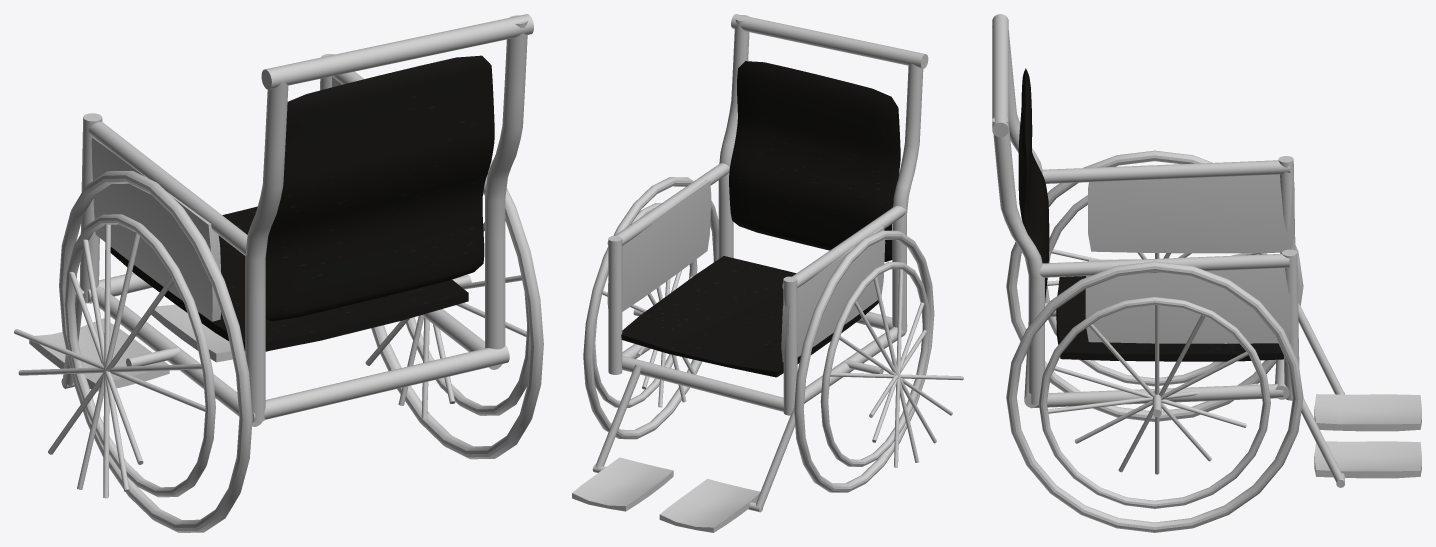
The model's file is Unwrapped_Wheelchair.FBX.
The picture shows the model from 3 angles, left to right: view 1: azimuth 30°, elevation 25°; view 2: azimuth 150°, elevation 25°; view 3: azimuth 270°, elevation 25°; orthographic projection. The views are drawn at different scales.
Parts seen in each view (by area): view 1: Box001, Torus002, Box002, Box004, Cylinder002, Cylinder001, Torus004, Torus001, Cylinder003, Cylinder014, Cylinder005, Box006 (+13 smaller); view 2: Box001, Box002, Box003, Torus002, Box004, Torus001, Torus004, Cylinder002, Box005, Box006, Cylinder003, Cylinder001 (+15 smaller); view 3: Box004, Box003, Torus001, Torus003, Box002, Torus002, Cylinder001, Box006, Box005, Cylinder005, Box001, Cylinder006 (+14 smaller).
Boxes of the visible parts, x1,y1,x2,y2 form: Box001: (265, 55, 494, 321); Torus002: (59, 171, 252, 532); Box002: (110, 206, 468, 351); Box004: (91, 137, 220, 321); Cylinder002: (245, 81, 288, 422); Cylinder001: (485, 15, 527, 349); Torus004: (64, 214, 215, 497); Torus001: (371, 159, 543, 459); Cylinder003: (261, 14, 533, 89); Cylinder014: (252, 345, 509, 422); Cylinder005: (88, 121, 247, 255); Box006: (29, 318, 169, 391); Box001: (729, 61, 900, 261); Box002: (621, 256, 878, 377); Box003: (607, 179, 711, 311); Torus002: (794, 230, 934, 492); Box004: (781, 226, 885, 362); Torus001: (583, 177, 718, 439); Torus004: (820, 262, 930, 466); Cylinder002: (892, 63, 923, 333); Box005: (572, 457, 673, 511); Box006: (659, 479, 760, 532); Cylinder003: (731, 14, 928, 68); Cylinder001: (718, 15, 749, 258); Box004: (1088, 174, 1294, 253); Box003: (1085, 259, 1291, 343); Torus001: (1006, 261, 1303, 532); Torus003: (1038, 297, 1270, 508); Box002: (1056, 276, 1283, 361); Torus002: (1006, 150, 1303, 421); Cylinder001: (992, 117, 1044, 404); Box006: (1314, 394, 1421, 431); Box005: (1314, 441, 1421, 478); Cylinder005: (1042, 160, 1290, 183); Box001: (1018, 68, 1049, 300); Cylinder006: (1039, 253, 1289, 277).
Bounding box in the file's own units: 19.11 × 24.17 × 22.81.
